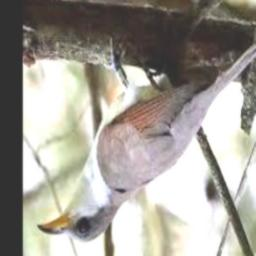Cuckoo: (39, 29, 256, 243)
